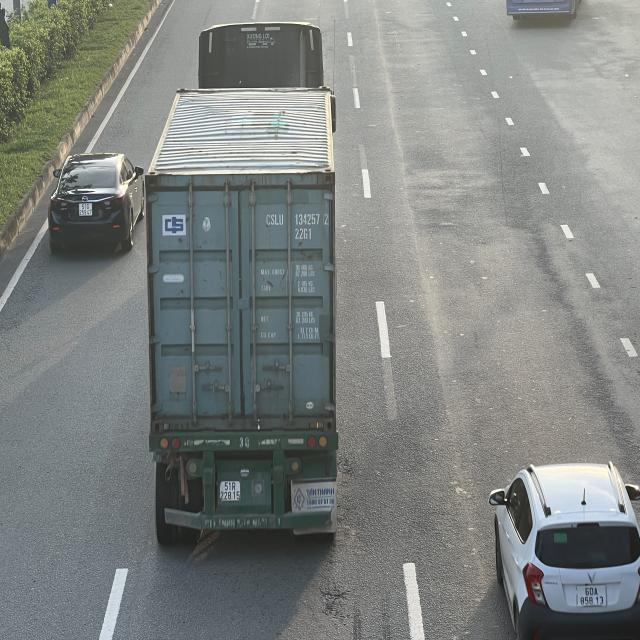car: (491, 465, 640, 640), (48, 152, 144, 256)
container: (144, 17, 343, 548)
